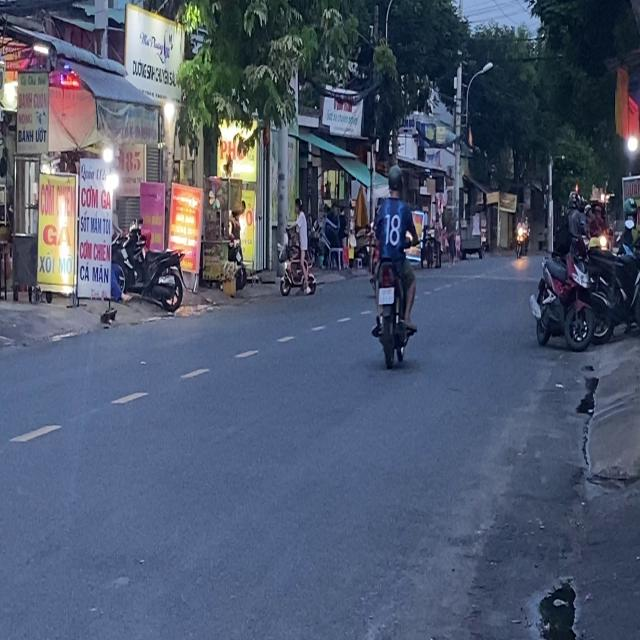helmet: (386, 164, 403, 196)
licenseplate: (368, 163, 418, 367)
nohelmet: (378, 287, 394, 303)
